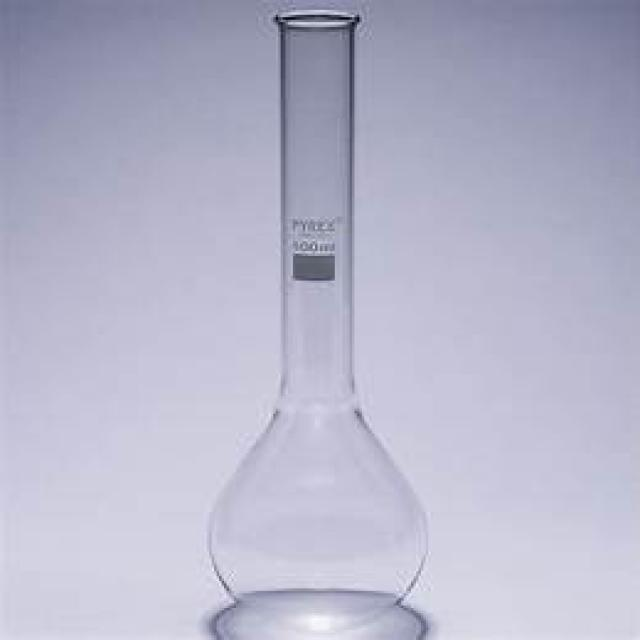Volumetric flask: (207, 22, 434, 617)
